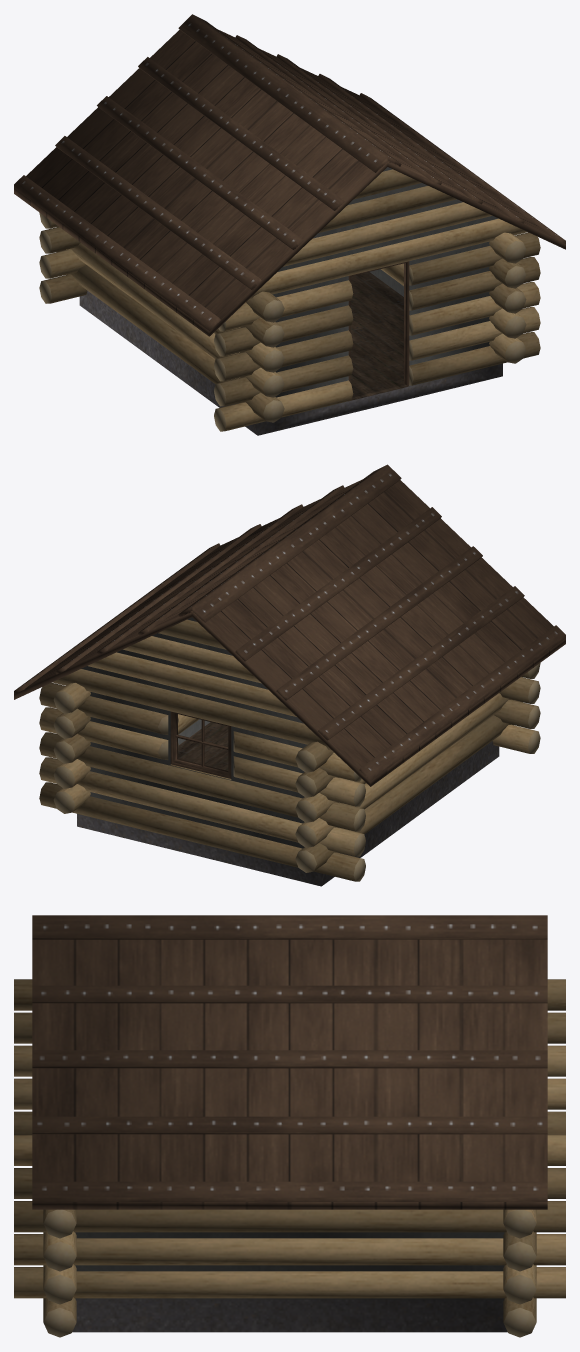
File: logCabin.obj
3 views of the same model, one above another, from view 1: azimuth 30°, elevation 25°; view 2: azimuth 150°, elevation 25°; view 3: azimuth 270°, elevation 25° (orthographic). The views are drawn at different scales.
Parts seen in each view (by area): view 1: cabin; view 2: cabin; view 3: cabin.
Boxes of the visible parts, x1=… form: cabin: x1=14, y1=14, x2=565, y2=435; cabin: x1=14, y1=464, x2=565, y2=886; cabin: x1=14, y1=915, x2=565, y2=1337.
Bounding box in the file's own units: 5.9 × 4.04 × 6.
1 material, 1 textured.
